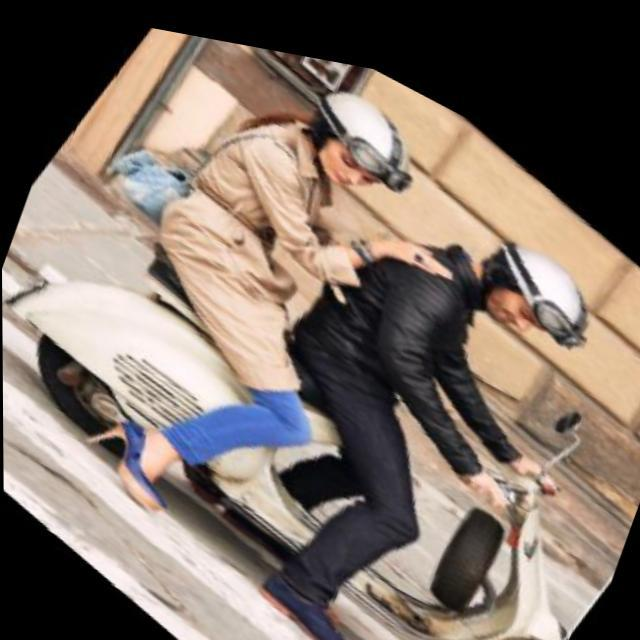Helmet: (473, 237, 592, 369), (304, 80, 416, 210)
